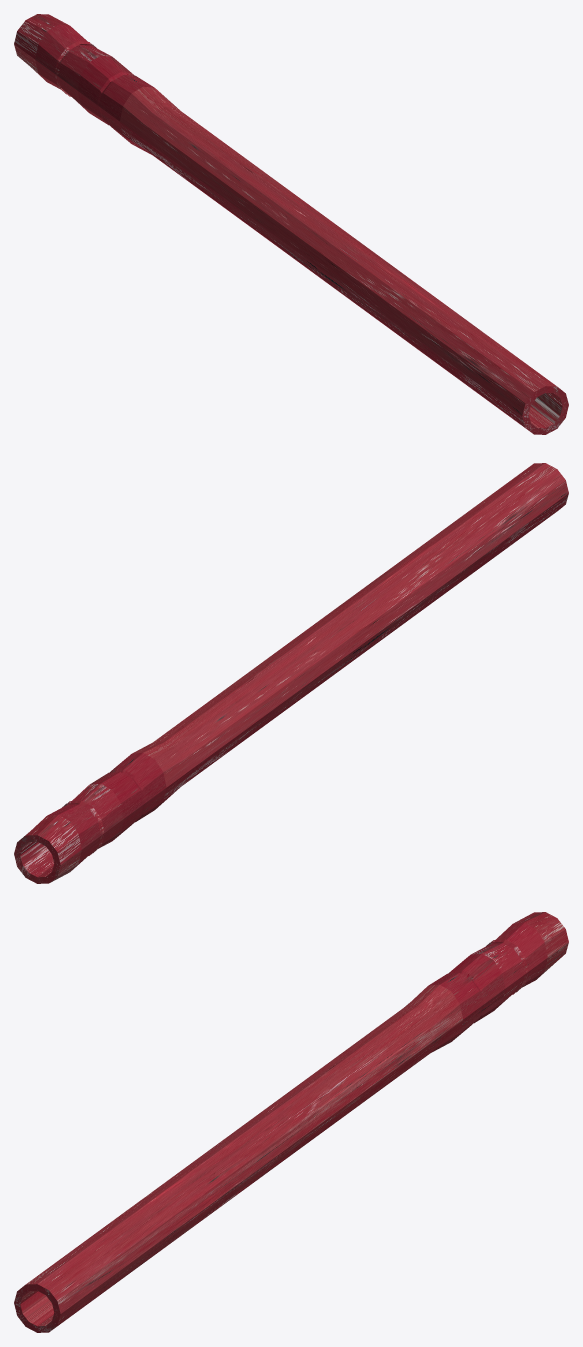
The model's file is Pipe.glb.
3 renders of one model, top to bottom at view 1: azimuth 30°, elevation 25°; view 2: azimuth 150°, elevation 25°; view 3: azimuth 330°, elevation 25°, orthographic.
Parts seen in each view (by area): view 1: Cylinder.005; view 2: Cylinder.005; view 3: Cylinder.005.
Part boxes in pixels (bbox=[...]): Cylinder.005: bbox=[14, 14, 568, 434]; Cylinder.005: bbox=[14, 463, 568, 883]; Cylinder.005: bbox=[14, 912, 568, 1332].
Size of the model in its own units: 0.2206 by 0.2646 by 4.16.
1 material, 1 textured.
